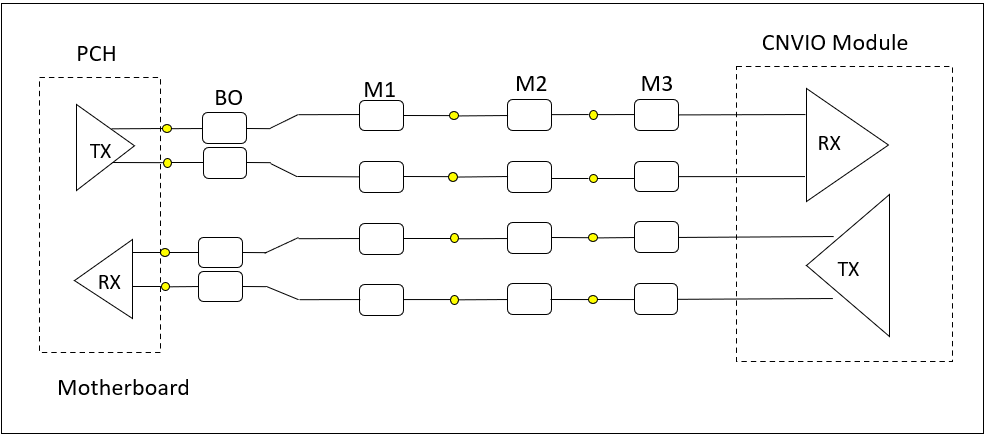circle: (582, 230, 601, 248), (582, 290, 601, 308), (445, 105, 461, 125), (444, 164, 460, 184), (444, 226, 460, 246), (444, 288, 460, 308), (585, 103, 601, 123), (583, 168, 599, 188), (160, 121, 174, 136), (160, 154, 172, 169), (159, 244, 170, 257), (158, 280, 170, 291)
oval: (352, 157, 407, 197), (355, 219, 410, 259), (353, 278, 408, 318), (500, 94, 555, 134), (502, 156, 557, 196), (501, 218, 556, 258), (498, 279, 553, 319), (629, 94, 684, 134), (627, 156, 682, 196), (628, 214, 683, 254), (628, 278, 683, 318), (198, 108, 249, 144), (197, 143, 248, 179), (194, 233, 245, 269), (193, 269, 244, 305), (353, 97, 404, 133)
rectangle: (719, 60, 965, 371), (28, 73, 163, 355)
triangle: (796, 190, 911, 340), (788, 83, 896, 203), (65, 96, 138, 193), (68, 231, 141, 328)
